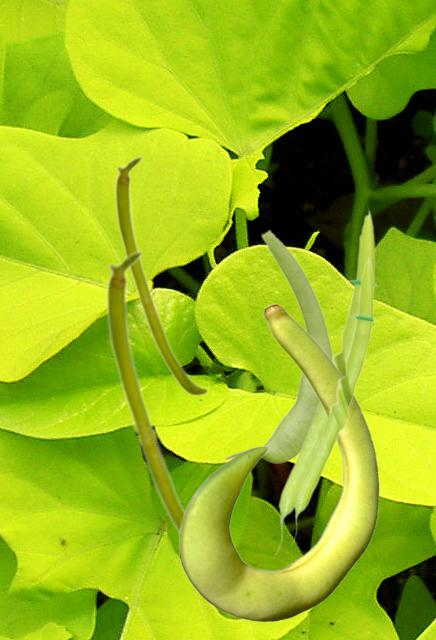french_bean: (178, 303, 379, 621), (274, 206, 378, 556), (223, 228, 334, 462), (290, 254, 376, 546), (105, 249, 184, 536), (114, 155, 208, 396)
